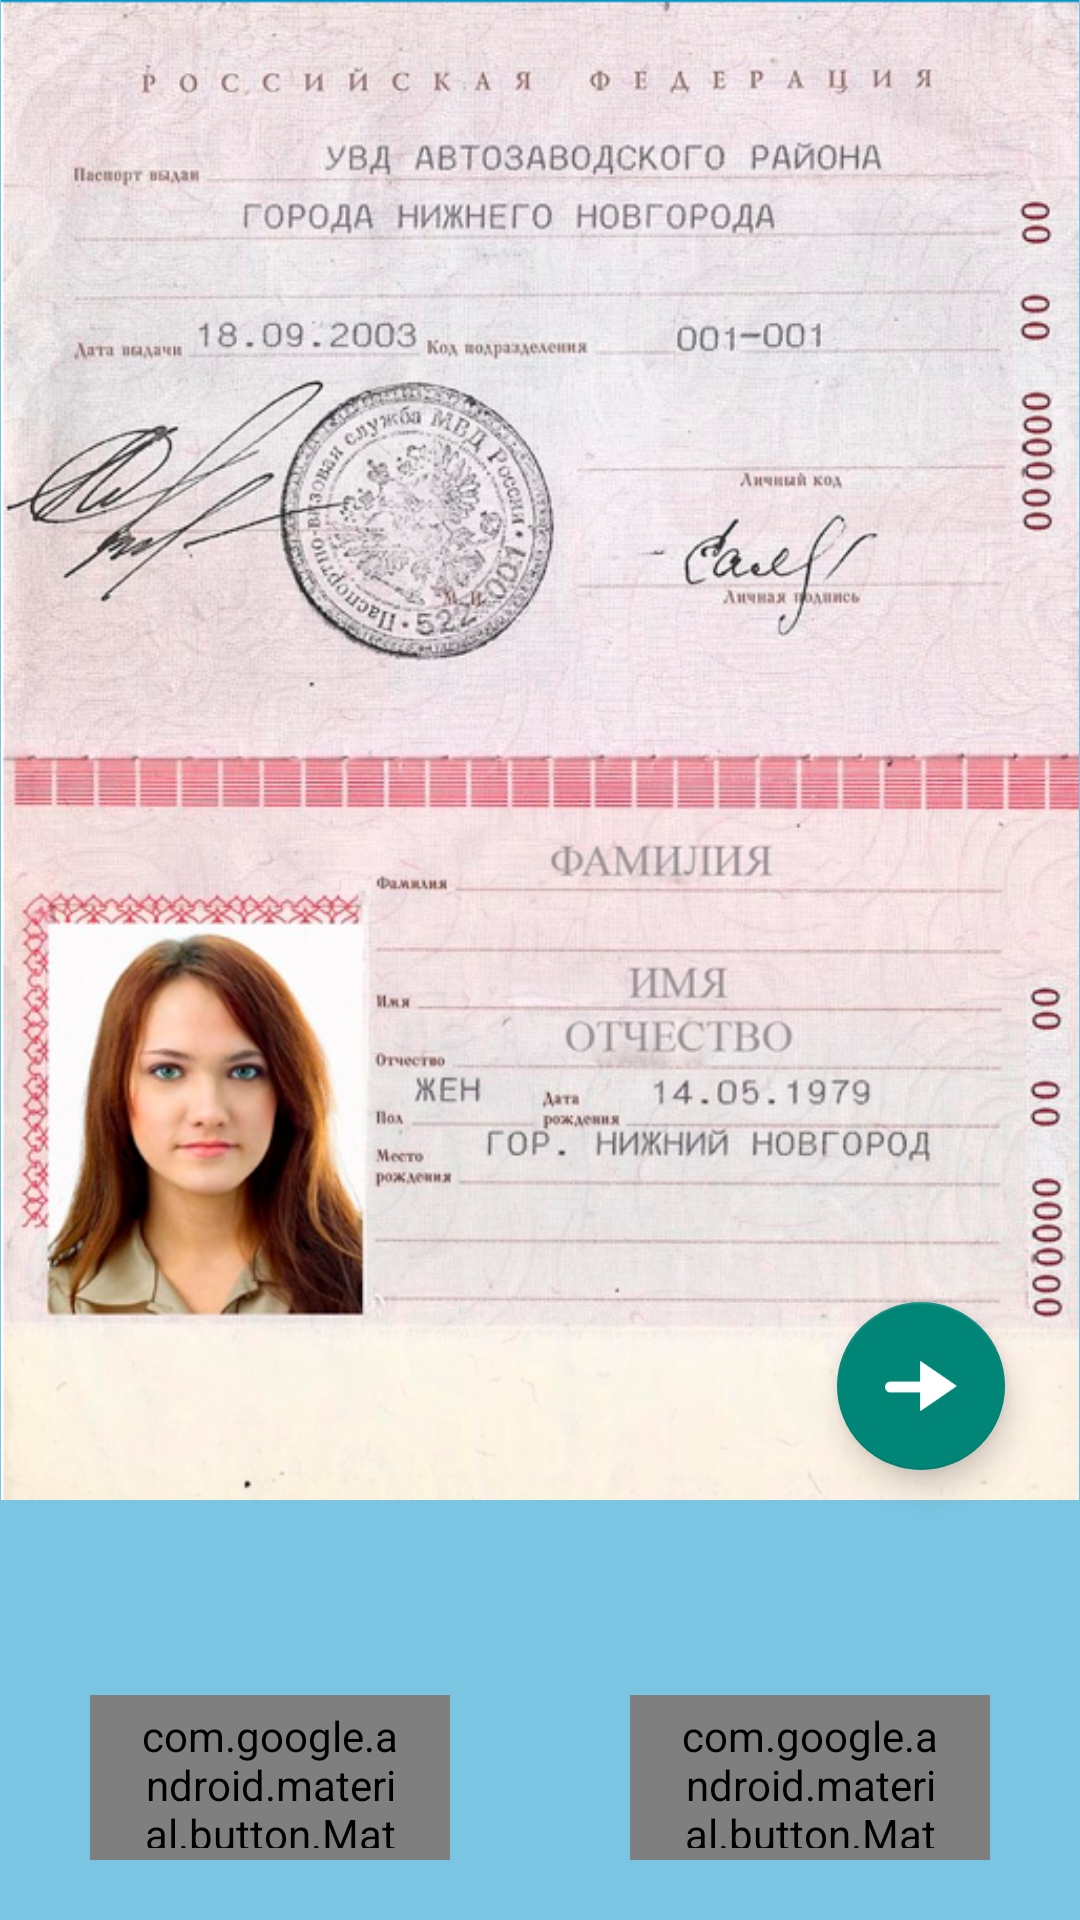

Where icons sit on this 1080px x 1920px app screen, as (x1, y1, x2, y2):
next: (837, 1302, 1005, 1470)
